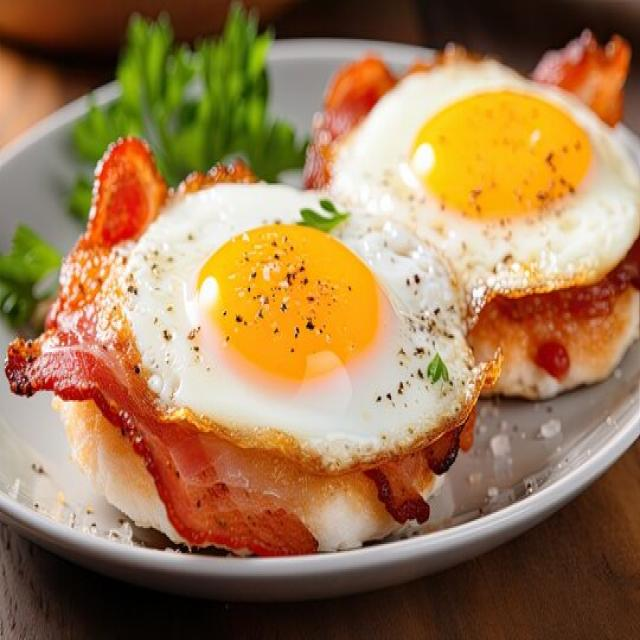Egg: (119, 182, 494, 472), (329, 60, 640, 327)
